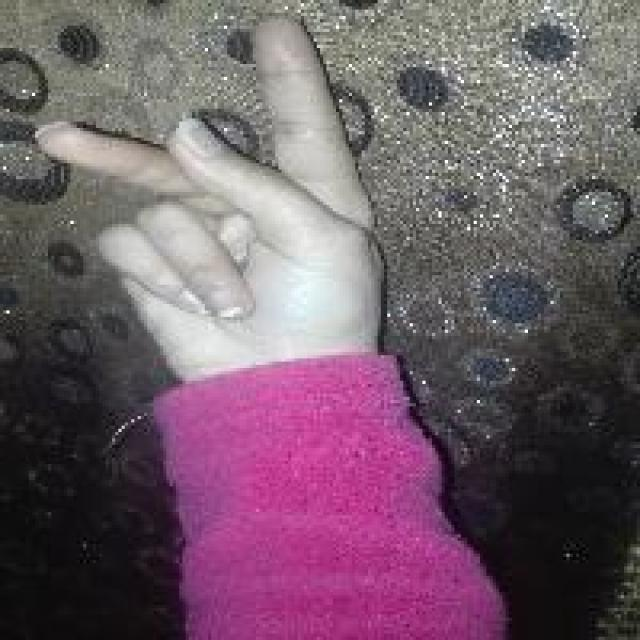K: (26, 11, 397, 363)
